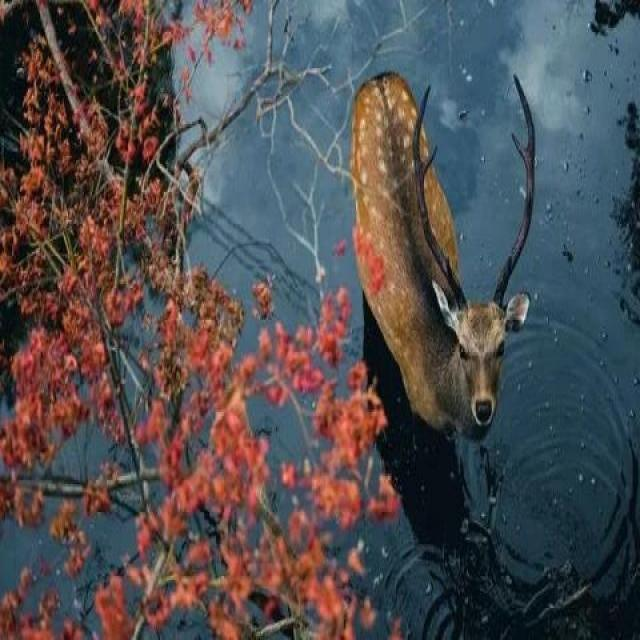deer: (279, 53, 542, 535)
